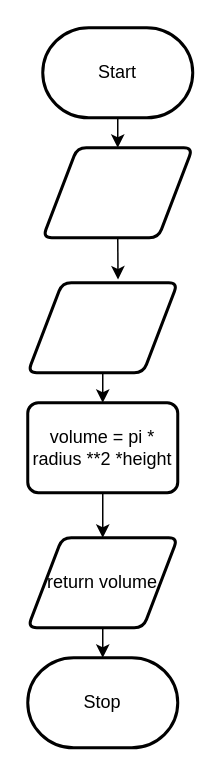
This 219x774 diagram has some shape labels left out. The box of each missing label's shape, as (x1, y1, x2, y2) in pixels:
import height: (26, 280, 178, 374)
import radius: (40, 146, 194, 238)
